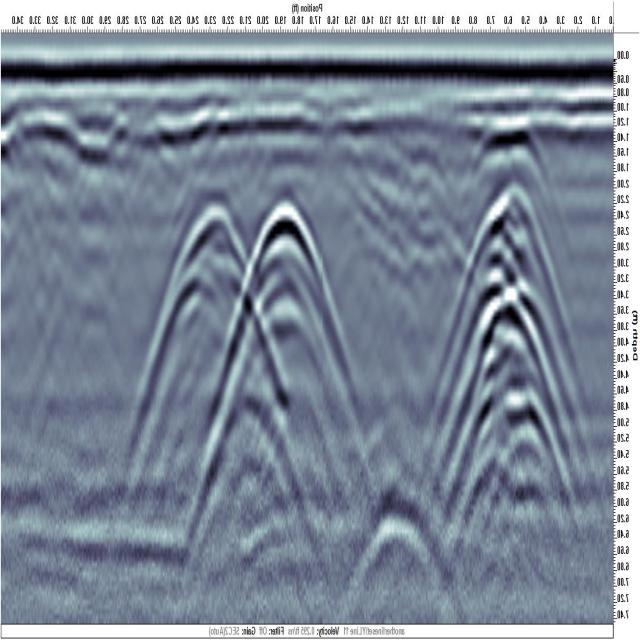hyperbola: (159, 187, 255, 349), (238, 187, 334, 336)
